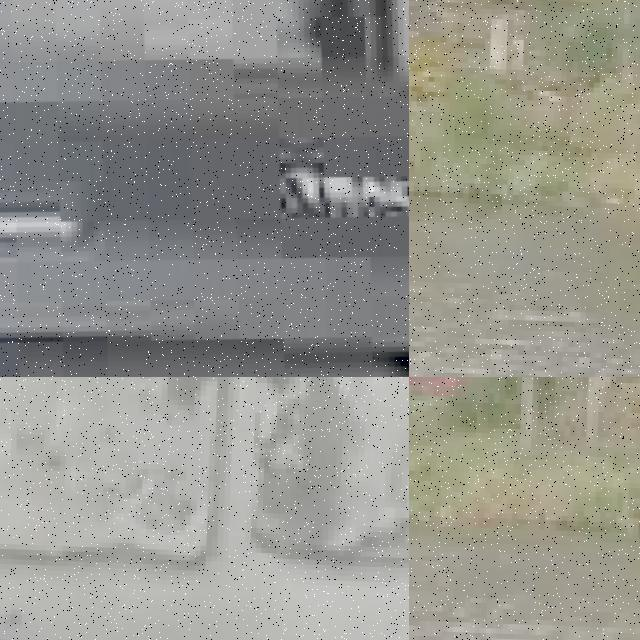drone: (0, 0, 409, 377)
